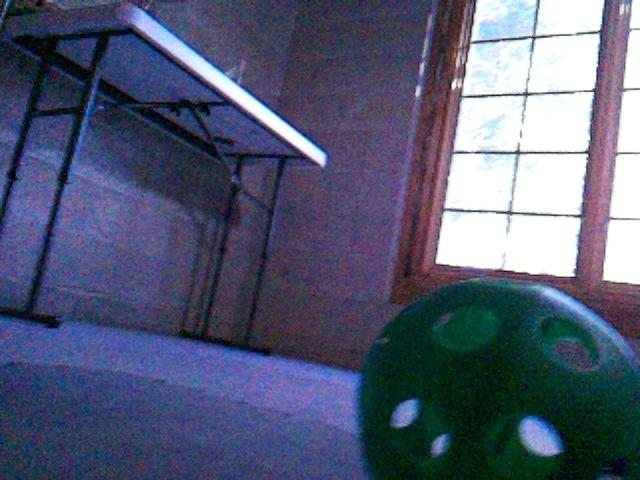Green: (356, 276, 640, 479)
